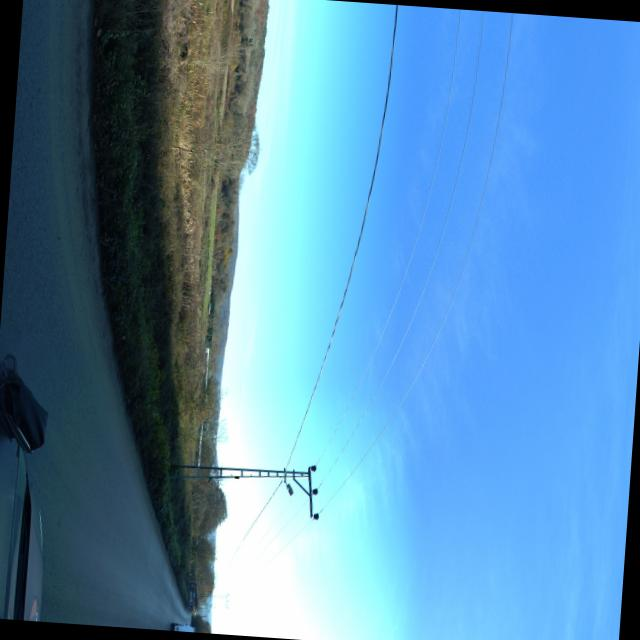Utility Pole Information Plate: (233, 476, 238, 478)
